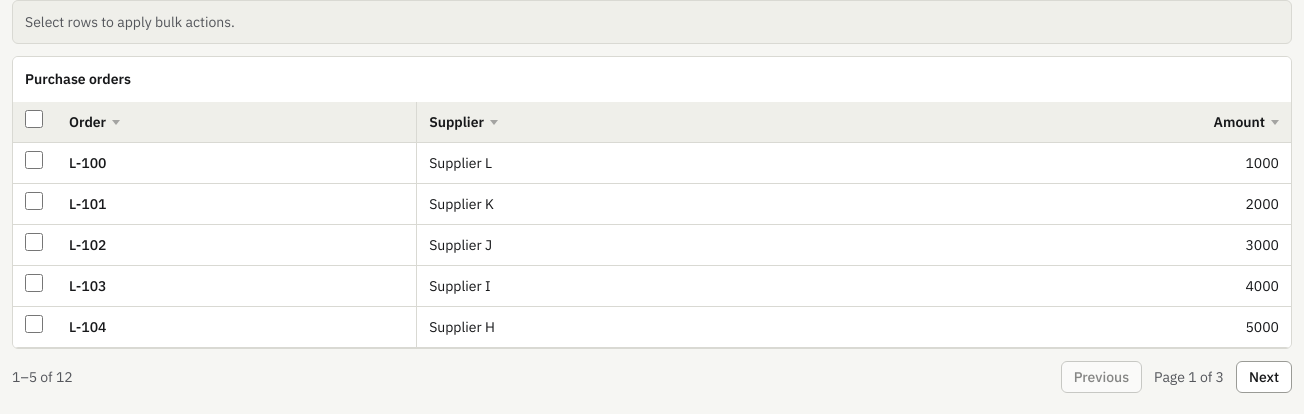
Test: BulkActionTable › paginates and disables boundary buttons
Expected: the button "Previous" is disabled, [1061,361,1142,393]
Click the button "Next" at point(1264, 377), box [1236,361,1292,393]
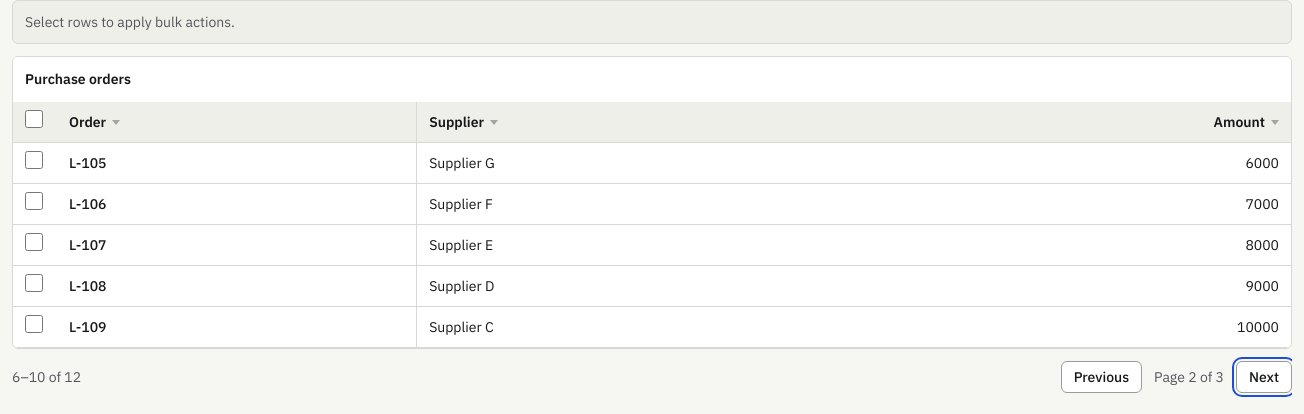
Click the button "Next" at point(1264, 377), box [1236,361,1292,393]
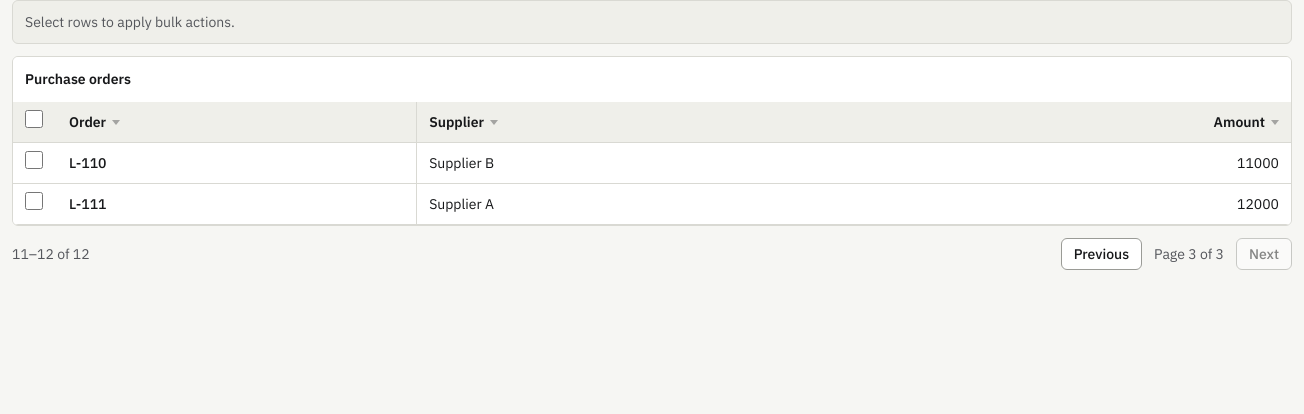
Result: the text "Page 3 of 3" is shown at [1154,244,1224,264]
Result: the button "Next" is disabled at [1236,238,1292,270]
